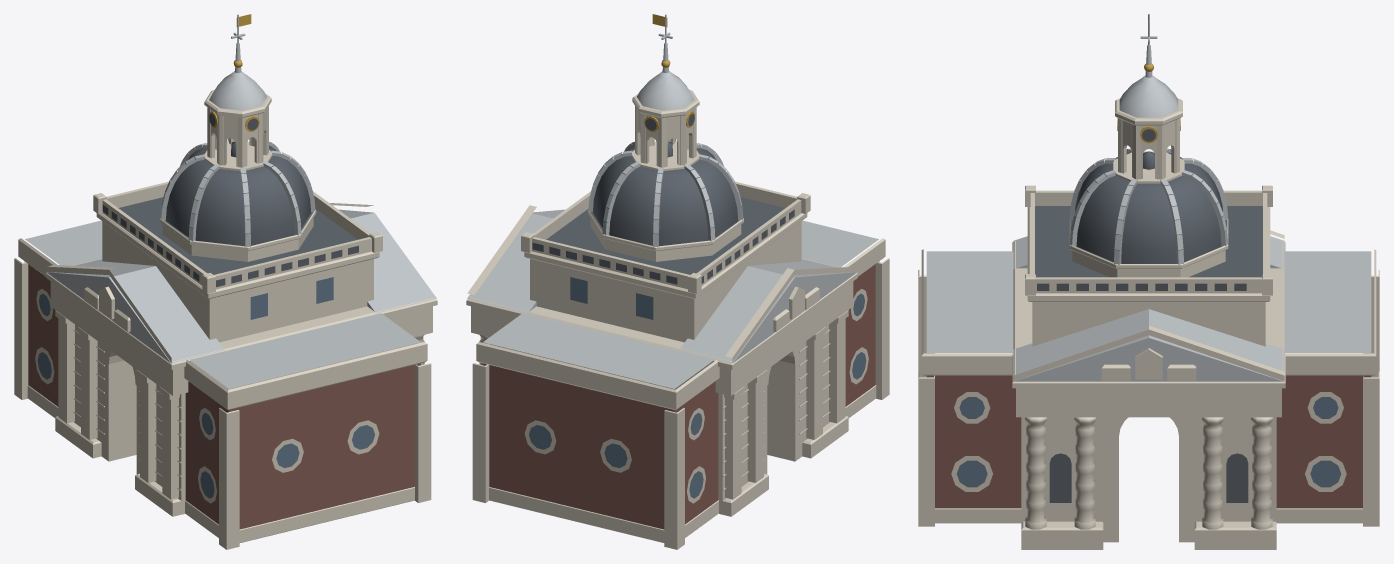
File: amsterdam-muiderpoort.glb
3 renders of one model, left to right at view 1: azimuth 30°, elevation 25°; view 2: azimuth 150°, elevation 25°; view 3: azimuth 270°, elevation 25°, orthographic. The views are drawn at different scales.
Visible parts, largest first — view 1: Muiderpoort; view 2: Muiderpoort; view 3: Muiderpoort.
Boxes of the visible parts, x1,y1,x2,y2 form: Muiderpoort: (14, 14, 437, 549); Muiderpoort: (466, 14, 889, 549); Muiderpoort: (918, 14, 1379, 549).
Bounding box in the file's own units: 18.8 × 28.2 × 25.3.
